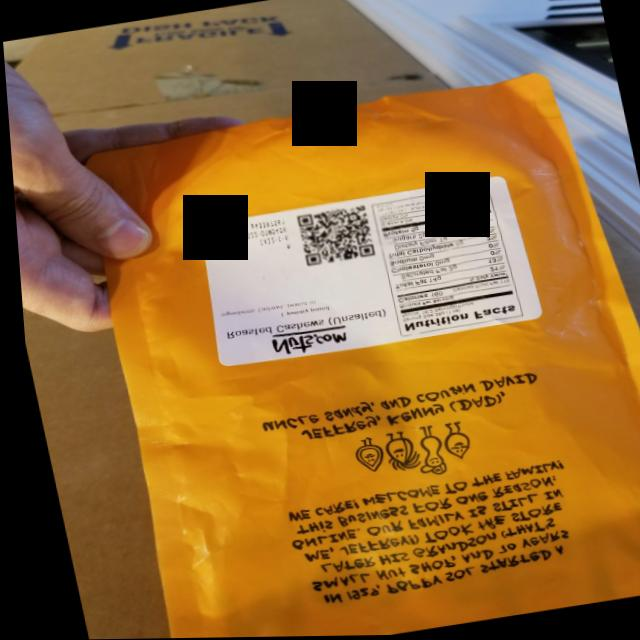QR_CODE: (276, 197, 391, 286)
